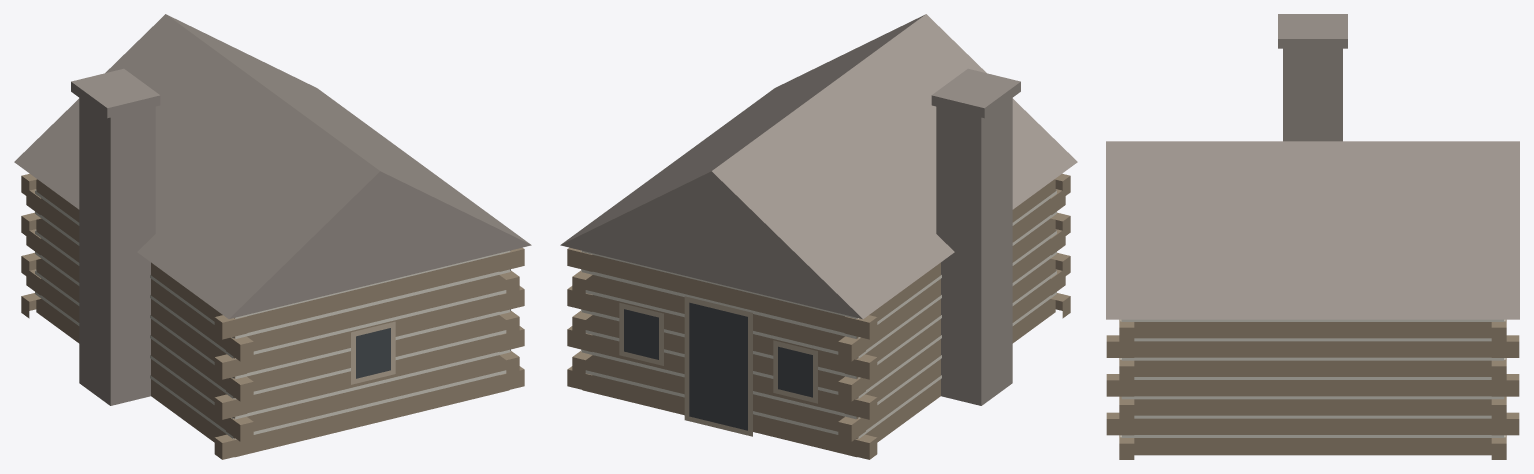
File: inf_boatman_cabin_north__inferred_1835.glb
The picture shows the model from 3 angles, left to right: view 1: azimuth 30°, elevation 25°; view 2: azimuth 150°, elevation 25°; view 3: azimuth 270°, elevation 25°; orthographic projection. The views are drawn at different scales.
Visible parts, largest first — view 1: inf_boatman_cabin_north__inferred_1835; view 2: inf_boatman_cabin_north__inferred_1835; view 3: inf_boatman_cabin_north__inferred_1835.
Part boxes in pixels (x1,y1,x2,y2): inf_boatman_cabin_north__inferred_1835: [14, 14, 531, 459]; inf_boatman_cabin_north__inferred_1835: [560, 14, 1077, 459]; inf_boatman_cabin_north__inferred_1835: [1106, 14, 1519, 459].
Bounding box in the file's own units: 5.95 × 5.17 × 6.6.
